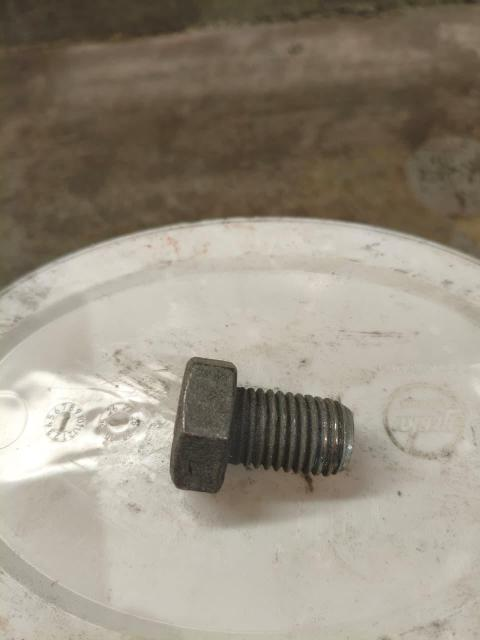Metal: (177, 358, 357, 505)
